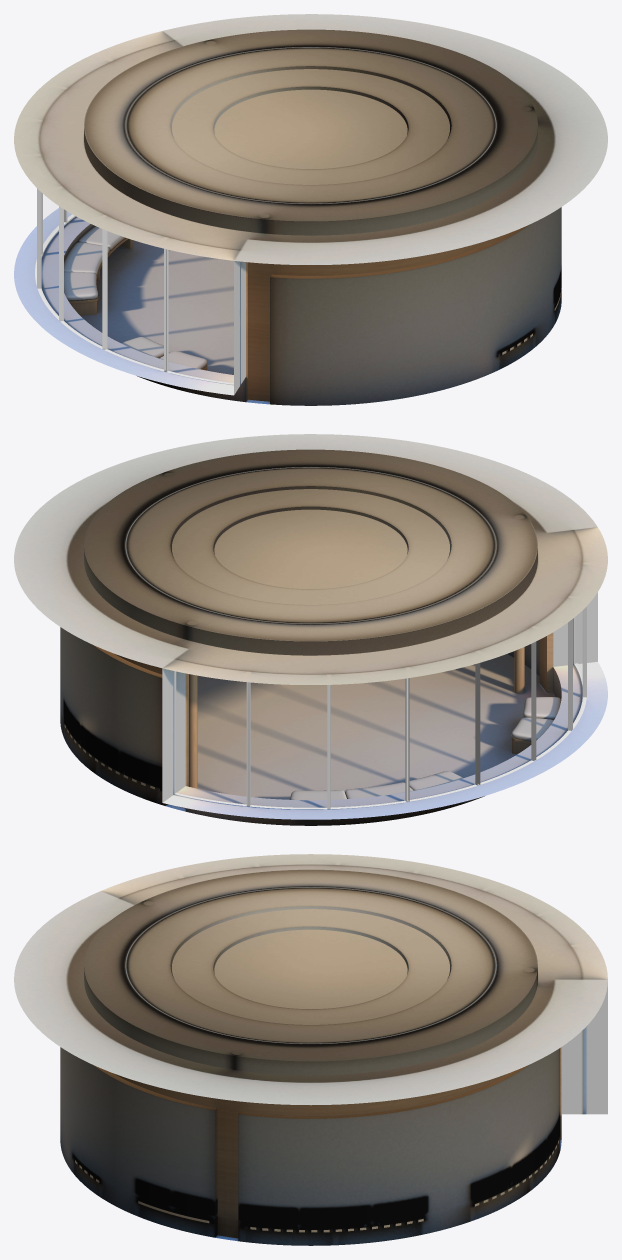
Rendered from collab_room.gltf.
The picture shows the model from 3 angles, top to bottom: view 1: azimuth 30°, elevation 25°; view 2: azimuth 150°, elevation 25°; view 3: azimuth 270°, elevation 25°; orthographic projection.
Visible parts, largest first — view 1: Room, Wood, Seating, Windows; view 2: Room, Windows, Wood, Seating; view 3: Room, Wood.
Boxes of the visible parts, left/top/right/bottom form: Room: left=14, top=14, right=607, bottom=405; Wood: left=68, top=47, right=561, bottom=401; Seating: left=64, top=226, right=207, bottom=369; Windows: left=35, top=188, right=233, bottom=384; Room: left=14, top=434, right=607, bottom=825; Windows: left=174, top=606, right=586, bottom=809; Wood: left=64, top=467, right=553, bottom=808; Seating: left=290, top=697, right=561, bottom=800; Room: left=14, top=854, right=607, bottom=1245; Wood: left=75, top=887, right=561, bottom=1238.
Size of the model in its own units: 11.45 by 3.71 by 11.45.
Materials: 5 (3 with a texture image).
